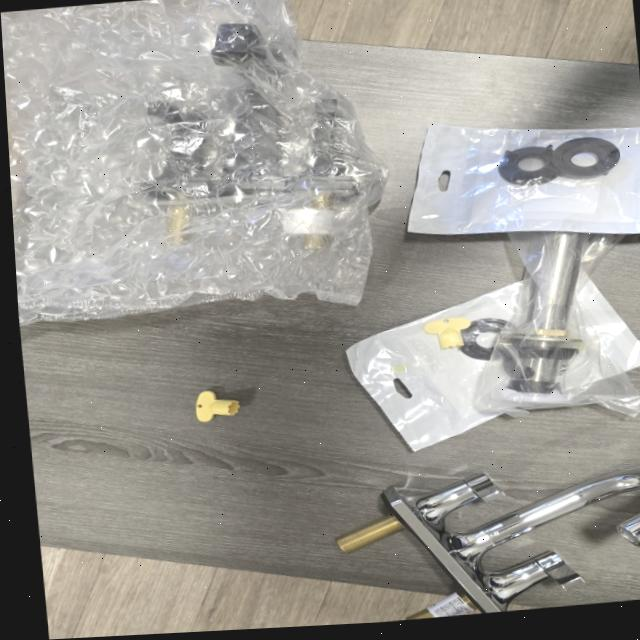10: (337, 466, 640, 619)
11o: (477, 230, 640, 415)
12o: (347, 281, 520, 450), (576, 271, 640, 377)
13: (408, 123, 640, 232)
14: (195, 389, 239, 420)
9c: (1, 0, 387, 324)
